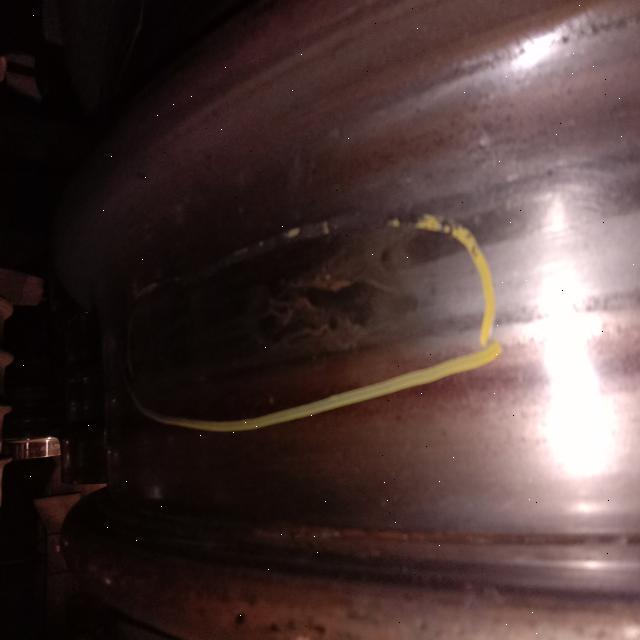flat: (260, 247, 426, 369)
